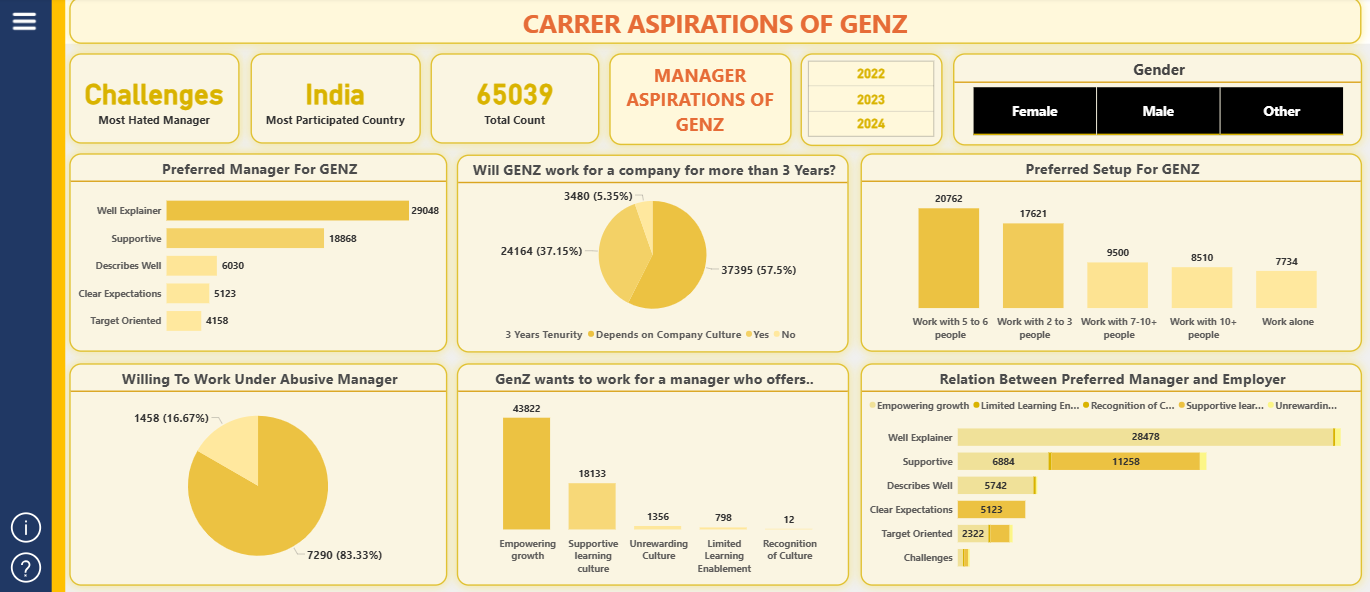

The dashboard page shown, as its layout file describes it:
{"tool":"powerbi","page":{"name":"Manager Aspirations","canvas":[2300,1000],"ordinal":1},"visuals":[{"type":"shape","title":"Man","box":[120,0,2160,78],"z":0},{"type":"actionButton","title":"Close","box":[329.6,14.8,61.5,55.6],"z":0,"group":"g2"},{"type":"actionButton","title":"Q/A","box":[14,921.6,66,64.4],"z":0,"group":"g3"},{"type":"shape","title":"Flyout","box":[80,0,251.3,1000],"z":1000,"group":"g2"},{"type":"pieChart","title":"Willing To Work Under Abusive Manager","fields":{"Y":["Dax Measures.Total Count"],"Category":["Career Aspirations.Willing to Work Under Abusive Manager"]},"box":[120,612,632,372],"z":1000},{"type":"actionButton","title":"Info","box":[14,853.6,66,64.4],"z":1000,"group":"g3"},{"type":"group","id":"g1","title":"Pages","box":[35.6,166.7,251.3,170.4],"z":1501,"group":"g2"},{"type":"actionButton","title":"Menu","box":[19,14,56.8,50.6],"z":2000,"group":"g3"},{"type":"card","title":"Minimum Salary Expectation at Starting","fields":{"Values":["Dax Measures.Most Hated Manager"]},"box":[120,93.3,284.4,151.1],"z":2000},{"type":"actionButton","title":"Learning","box":[35.6,294.5,251.3,42.6],"z":2000,"group":"g1"},{"type":"actionButton","title":"Manager","box":[35.6,230.6,251.3,42.6],"z":3000,"group":"g1"},{"type":"barChart","title":"Preferred Manager For GENZ","fields":{"Y":["Dax Measures.Pin Code"],"Category":["Career Aspirations.Supportive and Inspiring Manager"]},"box":[120,262,632,332],"z":3000},{"type":"group","id":"g2","title":"Menu Objects","box":[35.6,0,355.6,1000],"z":4000},{"type":"actionButton","title":"Mission","box":[35.6,166.7,251.3,42.6],"z":4000,"group":"g1"},{"type":"group","id":"g3","title":"Menu Bar","box":[14,14,66,970],"z":5000},{"type":"slicer","title":"Gender","fields":{"Values":["Career Aspirations. Gender"]},"box":[1596,94,684,154],"z":6000},{"type":"columnChart","title":"Preferred Setup For GENZ","fields":{"Y":["Dax Measures.Pin Code"],"Category":["Career Aspirations.Work Setup Preference"]},"box":[1442,262,838,332],"z":7000},{"type":"pieChart","title":"Will GENZ work for a company for more than 3 Years?","fields":{"Y":["Dax Measures.Total Count"],"Category":["Career Aspirations.3 Years Tenurity"]},"box":[766.7,262.2,655.6,331.1],"z":8000},{"type":"barChart","title":"Relation Between Preferred Manager and Employer","fields":{"Y":["Dax Measures.Pin Code"],"Category":["Career Aspirations.Supportive and Inspiring Manager"],"Series":["Career Aspirations.Preferred Employer Type"]},"box":[1442,612,838,372],"z":9000},{"type":"columnChart","title":"GenZ wants to work for a manager who offers..","fields":{"Category":["Career Aspirations.Preferred Employer Type"],"Y":["Dax Measures.Pin Code"]},"box":[766,612,656,372],"z":10000},{"type":"card","title":"Minimum Salary Expectation at Starting","fields":{"Values":["Dax Measures.Total Count"]},"box":[722.2,93.3,282.2,151.1],"z":11000},{"type":"advancedSlicerVisual","title":"Minimum Salary Expectation at Starting","fields":{"Values":["Career Aspirations.Date.Variation.Date Hierarchy.Year"]},"box":[1342.2,93.3,237.8,155.6],"z":12000},{"type":"card","title":"Minimum Salary Expectation at Starting","fields":{"Values":["Dax Measures.Most Participated Country"]},"box":[422.2,93.3,284.4,151.1],"z":13000},{"type":"shape","title":"Man","box":[1022.2,93.3,304.4,153.3],"z":14000}]}

Visuals, with their boxes in screenshot pixels (x1, y1, x2, y2), scaled from the page's 2300x1000 canvas onto the 1370x592 screenshot:
"Man" shape: [71, 0, 1358, 46]
"Close" actionButton: [196, 9, 233, 42]
"Q/A" actionButton: [8, 546, 48, 584]
"Flyout" shape: [48, 0, 197, 591]
"Willing To Work Under Abusive Manager" pieChart: [71, 362, 448, 583]
"Info" actionButton: [8, 505, 48, 543]
"Pages" group: [21, 99, 171, 200]
"Menu" actionButton: [11, 8, 45, 38]
"Minimum Salary Expectation at Starting" card: [71, 55, 241, 145]
"Learning" actionButton: [21, 174, 171, 200]
"Manager" actionButton: [21, 137, 171, 162]
"Preferred Manager For GENZ" barChart: [71, 155, 448, 352]
"Menu Objects" group: [21, 0, 233, 591]
"Mission" actionButton: [21, 99, 171, 124]
"Menu Bar" group: [8, 8, 48, 583]
"Gender" slicer: [951, 56, 1358, 147]
"Preferred Setup For GENZ" columnChart: [859, 155, 1358, 352]
"Will GENZ work for a company for more than 3 Years?" pieChart: [457, 155, 847, 351]
"Relation Between Preferred Manager and Employer" barChart: [859, 362, 1358, 583]
"GenZ wants to work for a manager who offers.." columnChart: [456, 362, 847, 583]
"Minimum Salary Expectation at Starting" card: [430, 55, 598, 145]
"Minimum Salary Expectation at Starting" advancedSlicerVisual: [799, 55, 941, 147]
"Minimum Salary Expectation at Starting" card: [251, 55, 421, 145]
"Man" shape: [609, 55, 790, 146]
